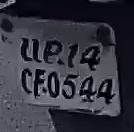0: (46, 73, 62, 99)
1: (65, 40, 80, 71)
4: (80, 42, 103, 74), (97, 76, 116, 107), (81, 76, 97, 107)
5: (62, 73, 79, 102)
C: (17, 66, 32, 97)
F: (32, 66, 46, 99)
P: (42, 37, 63, 65)
U: (19, 35, 44, 66)
